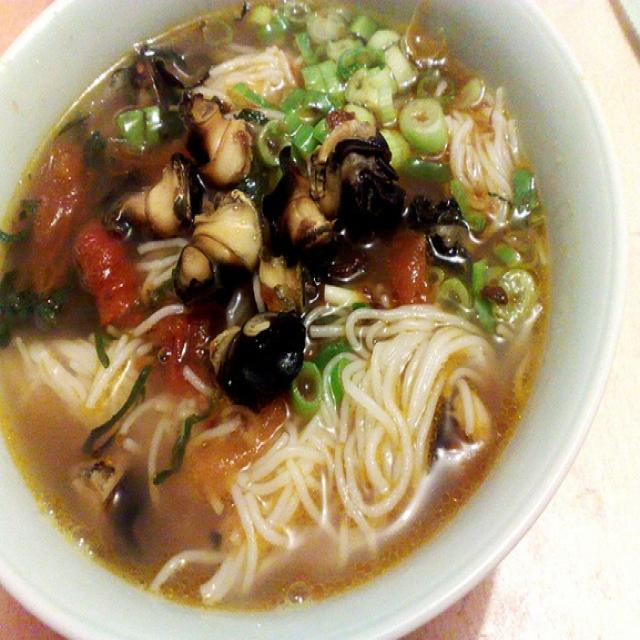面条主食: (10, 15, 601, 618)
